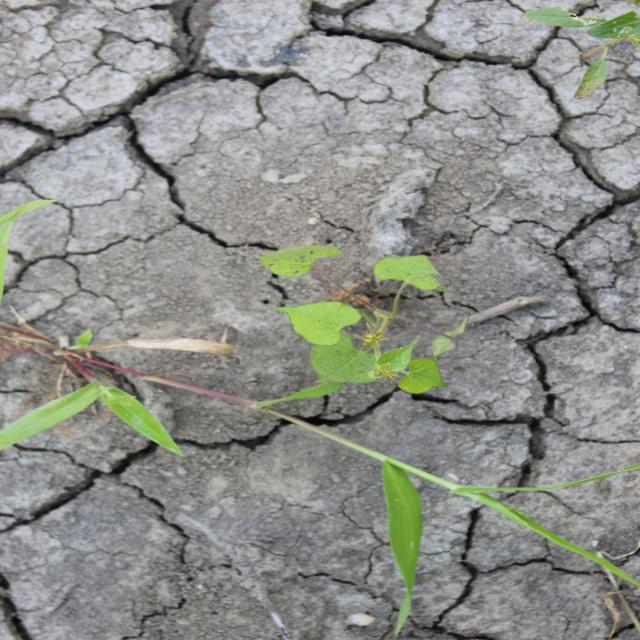MorningGlory: (248, 224, 472, 394)
Waterhemp: (524, 4, 637, 100)
